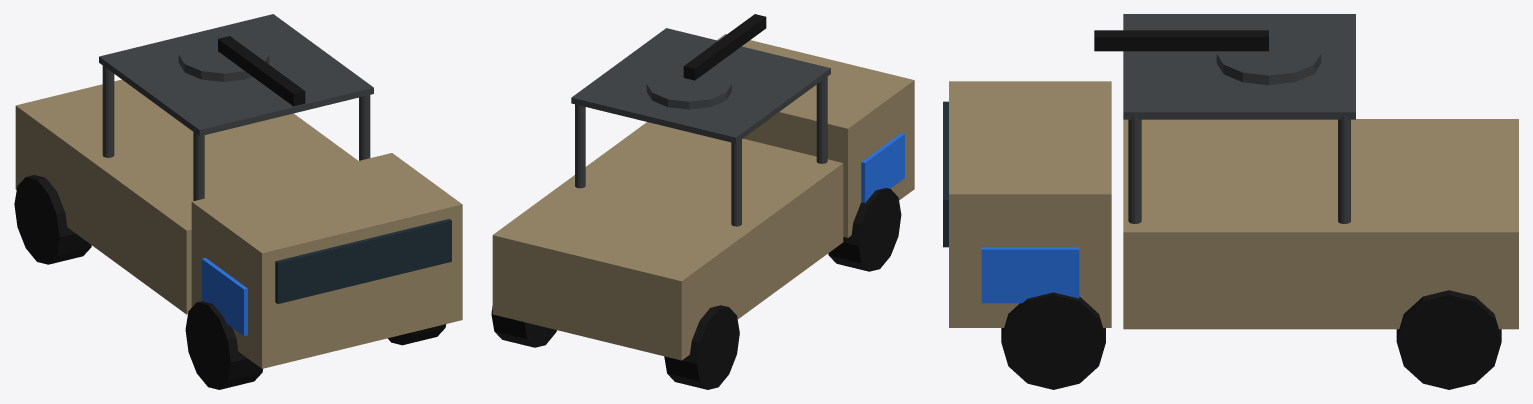
The model's file is ae_raider.glb.
3 renders of one model, left to right at view 1: azimuth 30°, elevation 25°; view 2: azimuth 150°, elevation 25°; view 3: azimuth 270°, elevation 25°, orthographic. The views are drawn at different scales.
Parts seen in each view (by area): view 1: cab, body, roll_roof, windshield, wheel_l1, wheel_l0, turret, team_door_l, barrel, roll_bar_2, roll_bar_0, roll_bar_1 (+1 smaller); view 2: body, roll_roof, cab, wheel_l1, wheel_l0, turret, team_door_l, barrel, wheel_r1, roll_bar_0, roll_bar_2, roll_bar_3; view 3: body, cab, roll_roof, wheel_r1, wheel_r0, team_door_r, barrel, turret, roll_bar_1, roll_bar_3, windshield.
Part boxes in pixels (<box>): cab: <box>191,153,462,368</box>; body: <box>15,79,357,314</box>; roll_roof: <box>99,14,373,136</box>; windshield: <box>275,219,451,303</box>; wheel_l1: <box>14,175,91,264</box>; wheel_l0: <box>185,301,262,389</box>; turret: <box>178,35,269,81</box>; team_door_l: <box>201,258,247,336</box>; barrel: <box>218,36,305,106</box>; roll_bar_2: <box>102,63,114,157</box>; roll_bar_0: <box>193,129,204,201</box>; roll_bar_1: <box>359,95,370,160</box>; body: <box>492,122,843,360</box>; roll_roof: <box>571,28,830,143</box>; cab: <box>717,34,914,237</box>; wheel_l1: <box>664,305,739,389</box>; wheel_l0: <box>828,188,901,271</box>; turret: <box>646,66,731,109</box>; team_door_l: <box>861,133,904,202</box>; barrel: <box>683,14,766,80</box>; wheel_r1: <box>491,306,556,347</box>; roll_bar_0: <box>816,74,827,163</box>; roll_bar_2: <box>731,136,741,226</box>; roll_bar_3: <box>575,104,585,188</box>; body: <box>1123,119,1518,329</box>; cab: <box>949,81,1111,327</box>; roll_roof: <box>1123,14,1355,119</box>; wheel_r1: <box>1396,290,1501,389</box>; wheel_r0: <box>1001,292,1105,389</box>; team_door_r: <box>981,247,1079,303</box>; barrel: <box>1094,30,1268,51</box>; turret: <box>1216,31,1321,85</box>; roll_bar_1: <box>1128,116,1141,223</box>; roll_bar_3: <box>1338,116,1350,223</box>; windshield: <box>943,101,948,247</box>.
Size of the model in its own units: 2.2 by 2.46 by 4.36.
